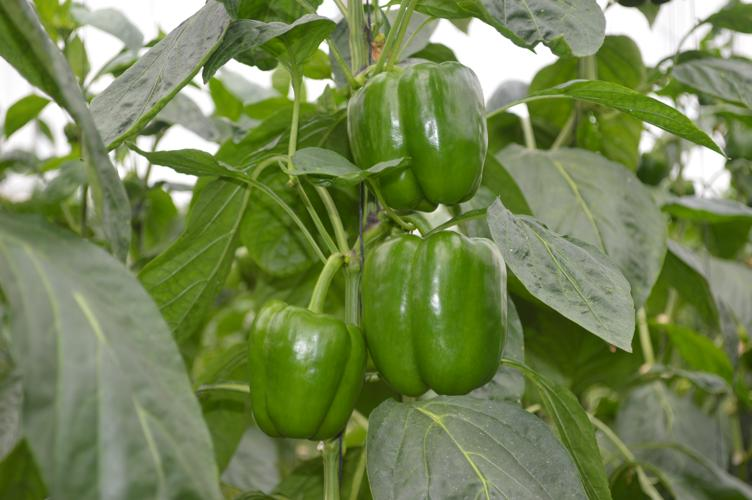BellPepper: (357, 233, 508, 394), (342, 57, 490, 211), (247, 304, 363, 442)
